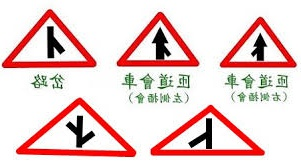Fork_road: (15, 93, 141, 161), (148, 99, 272, 157), (3, 8, 98, 72)
